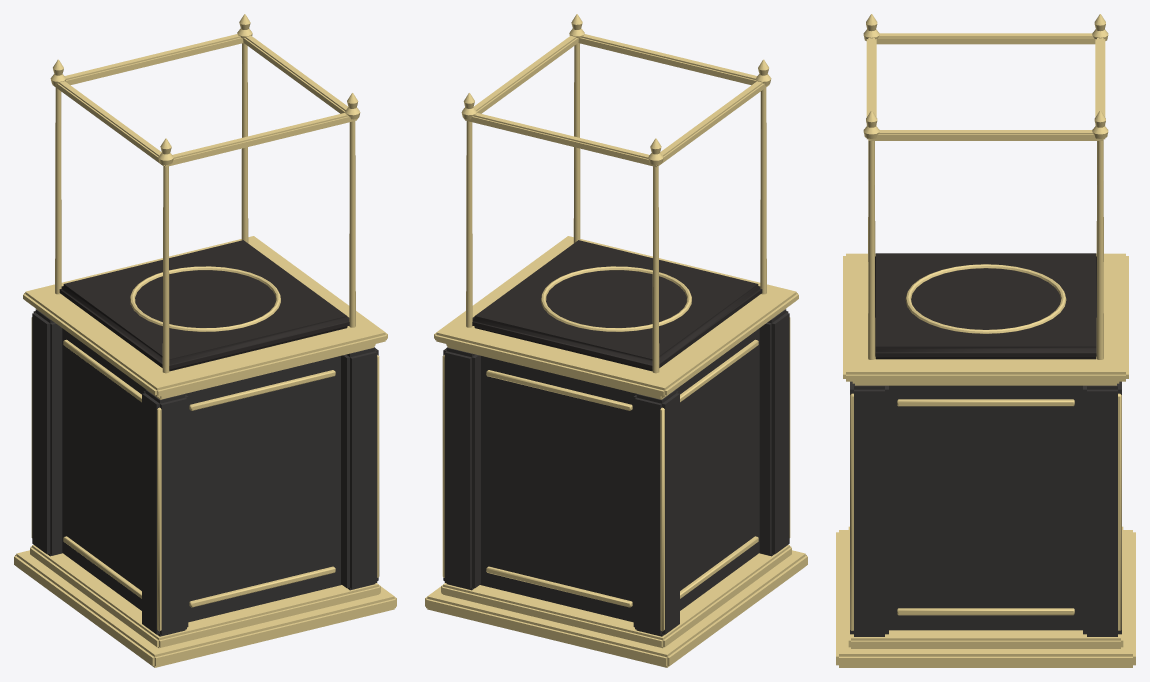
File: atelier_luxury_pedestal.glb
3 renders of one model, left to right at view 1: azimuth 30°, elevation 25°; view 2: azimuth 150°, elevation 25°; view 3: azimuth 270°, elevation 25°, orthographic. The views are drawn at different scales.
Visible parts, largest first — view 1: Pedestal_MarbleCore_Nero, Pedestal_TrimAndCrown_Gold, Pedestal_VelvetCushion; view 2: Pedestal_MarbleCore_Nero, Pedestal_TrimAndCrown_Gold, Pedestal_VelvetCushion; view 3: Pedestal_MarbleCore_Nero, Pedestal_TrimAndCrown_Gold, Pedestal_VelvetCushion.
Part boxes in pixels (bbox=[...]): Pedestal_MarbleCore_Nero: bbox=[32, 309, 378, 636]; Pedestal_TrimAndCrown_Gold: bbox=[14, 14, 396, 667]; Pedestal_VelvetCushion: bbox=[59, 240, 349, 371]; Pedestal_MarbleCore_Nero: bbox=[443, 309, 789, 636]; Pedestal_TrimAndCrown_Gold: bbox=[425, 14, 807, 667]; Pedestal_VelvetCushion: bbox=[472, 240, 762, 371]; Pedestal_MarbleCore_Nero: bbox=[850, 381, 1121, 636]; Pedestal_TrimAndCrown_Gold: bbox=[836, 14, 1135, 667]; Pedestal_VelvetCushion: bbox=[875, 253, 1096, 359].
Bounding box in the file's own units: 1.08 × 2.16 × 1.08.
